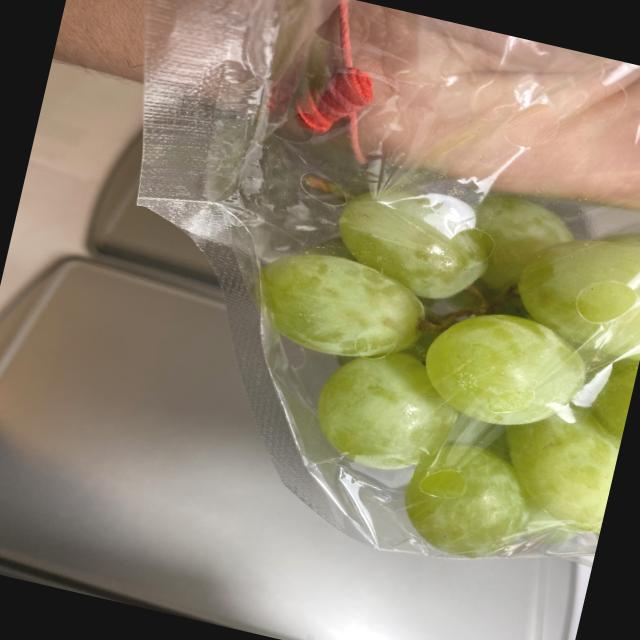grapes: (198, 141, 640, 601)
